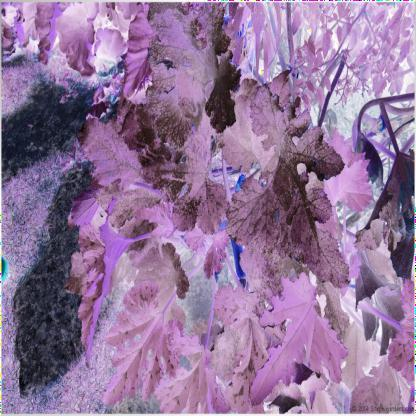Squash Powdery mildew leaf: (243, 77, 349, 295), (144, 3, 244, 142)
